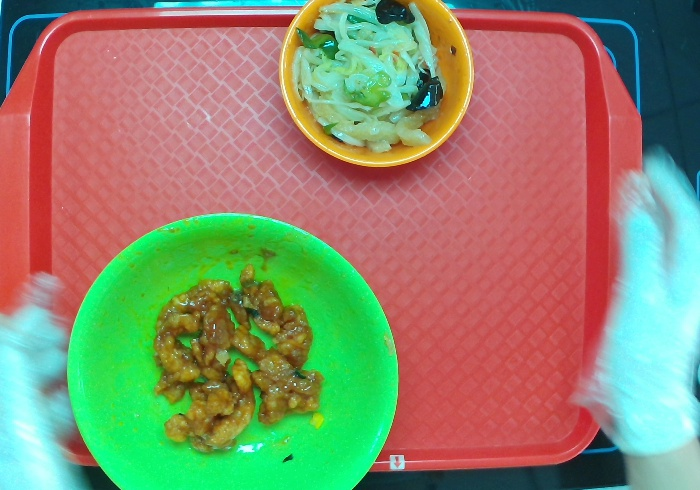YKMZ-Ju_Se_Yuan_Wan: (275, 5, 475, 168)
YKMZ-Lv_Se_Tang_Wan: (64, 213, 402, 490)
